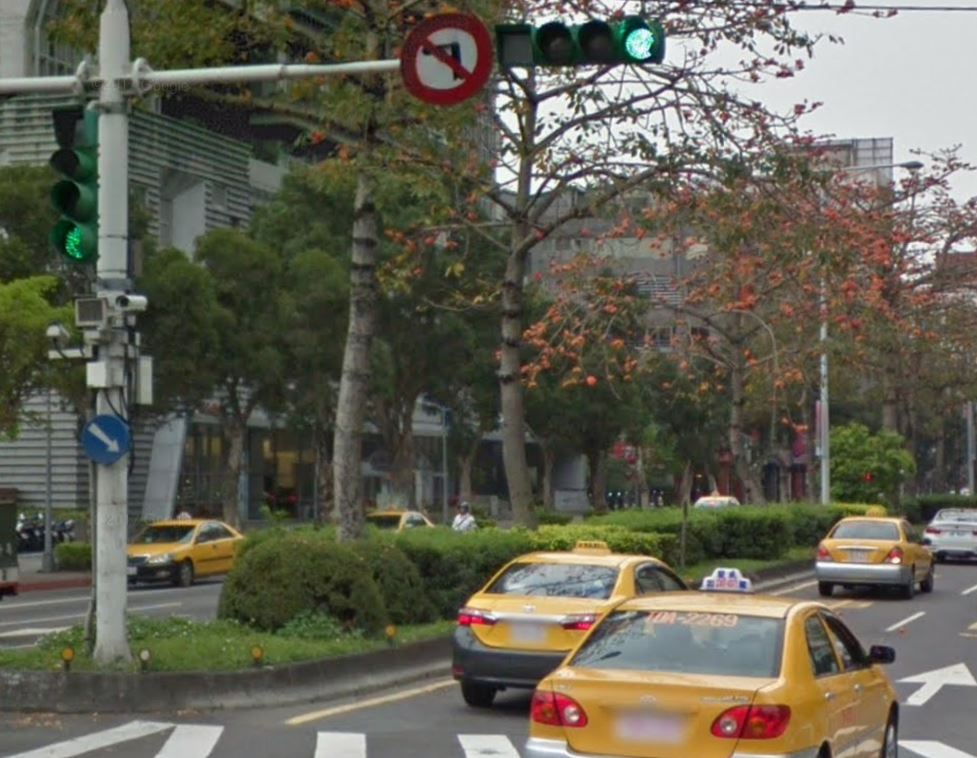No_left_turn: (400, 12, 493, 102)
Traffic_light_green: (494, 17, 665, 66)
